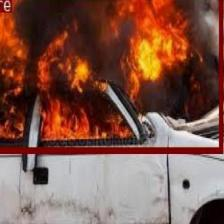fire: (0, 0, 221, 151)
